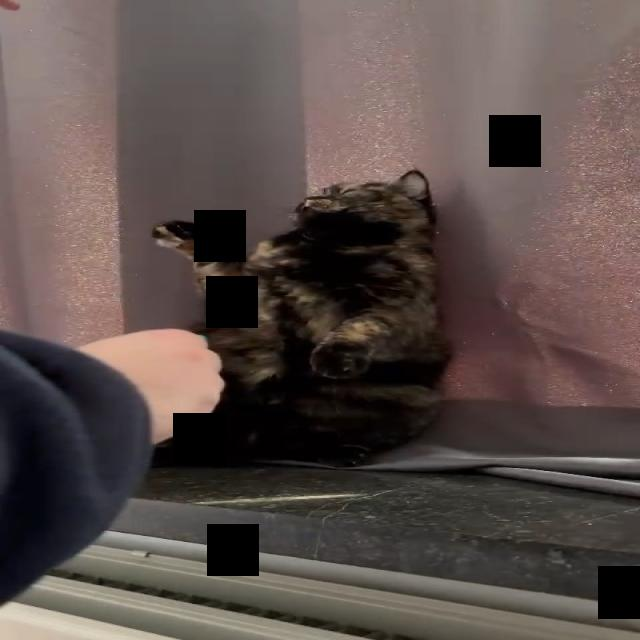authorized: (150, 168, 453, 468)
